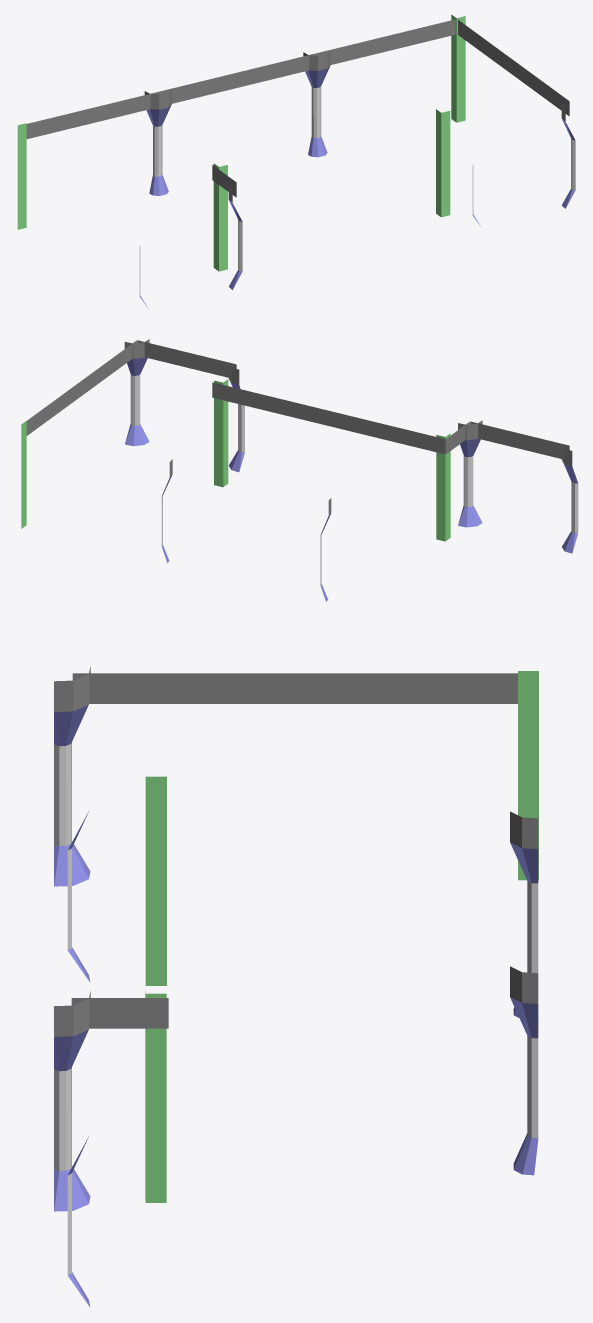
File: interior_B_delf_store_25.gltf
3 renders of one model, top to bottom at view 1: azimuth 30°, elevation 25°; view 2: azimuth 150°, elevation 25°; view 3: azimuth 270°, elevation 25°, orthographic. The views are drawn at different scales.
Parts seen in each view (by area): view 1: interior_B_delf_store_25; view 2: interior_B_delf_store_25; view 3: interior_B_delf_store_25.
Part boxes in pixels (box(x1,y1,x2,y2)): interior_B_delf_store_25: box(17, 14, 575, 308); interior_B_delf_store_25: box(21, 339, 578, 601); interior_B_delf_store_25: box(54, 666, 538, 1307).
Bounding box in the file's own units: 11.01 × 2.46 × 5.16.
